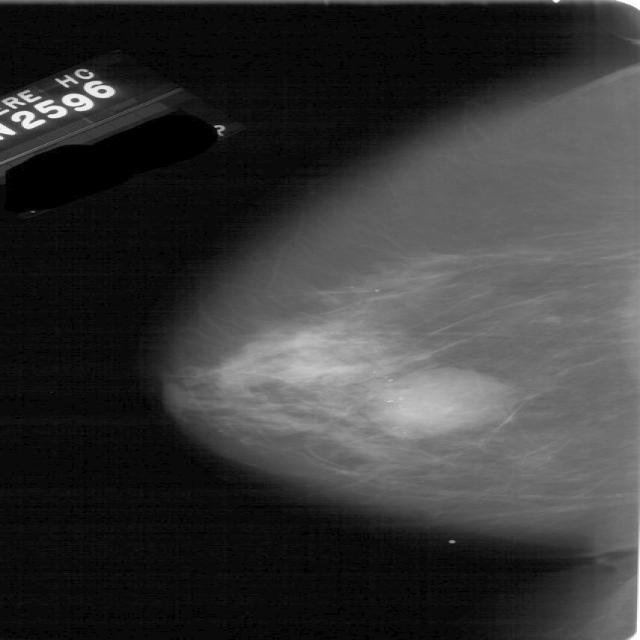tumour: (362, 366, 511, 433)
